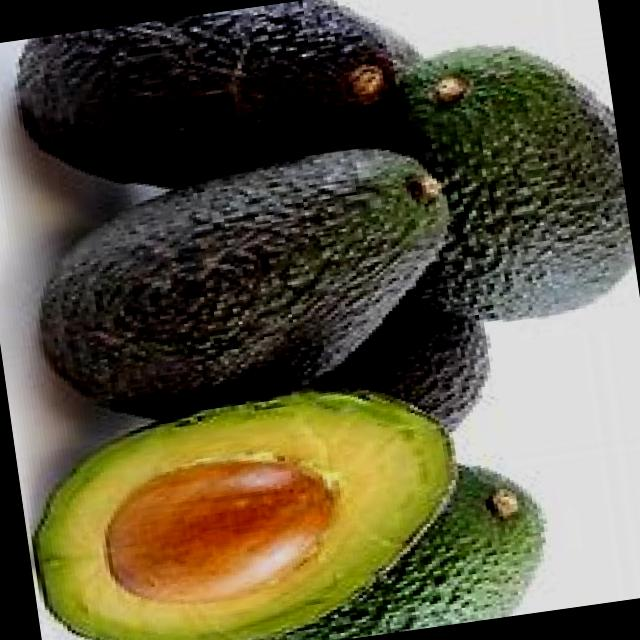avocado: (23, 142, 478, 435), (12, 364, 474, 640), (9, 0, 436, 197), (386, 24, 640, 338)
